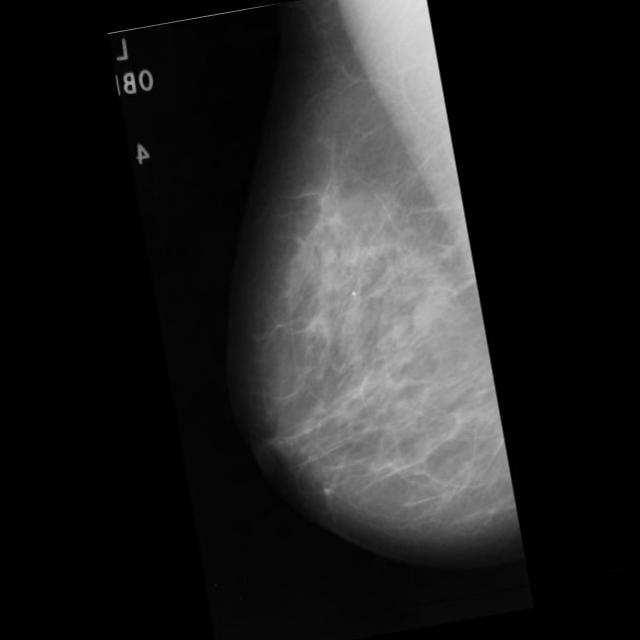CIRC: (412, 298, 441, 328)
